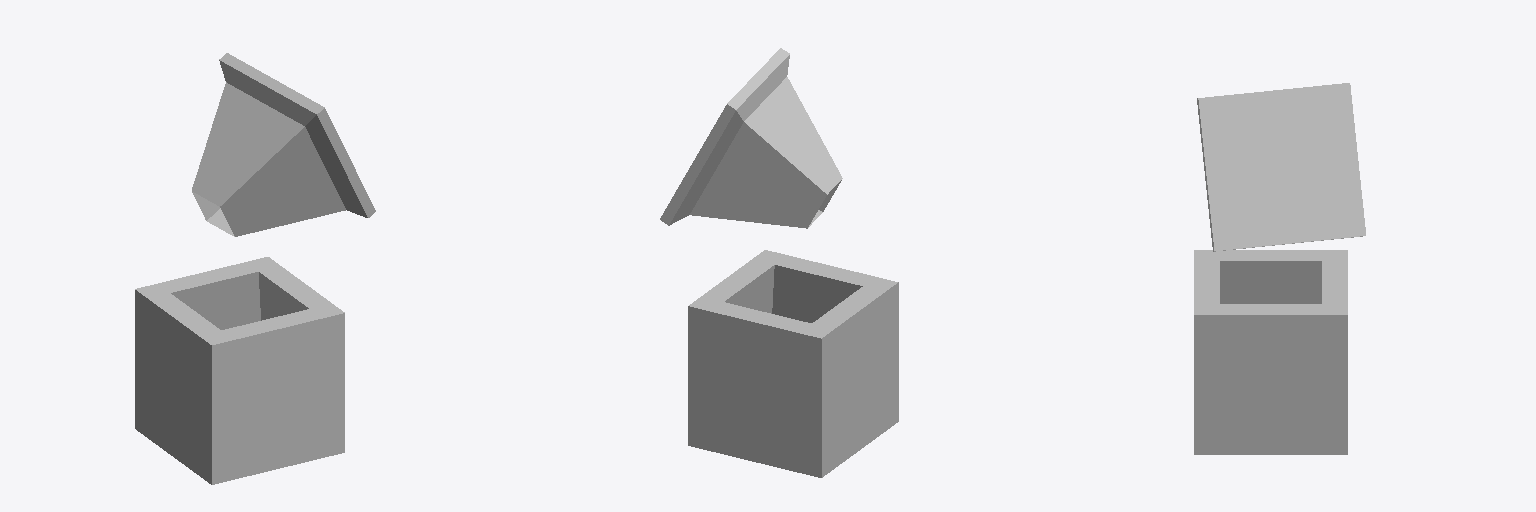
File: AnimatedBox_000063.obj
The picture shows the model from 3 angles: view 1: azimuth 30°, elevation 25°; view 2: azimuth 150°, elevation 25°; view 3: azimuth 270°, elevation 25°; orthographic projection.
Visible parts, largest first — view 1: Cube, Cube.001; view 2: Cube, Cube.001; view 3: Cube, Cube.001.
Part boxes in pixels (left/top/right/bottom): Cube: left=135, top=257, right=344, bottom=484; Cube.001: left=192, top=53, right=375, bottom=236; Cube: left=688, top=250, right=898, bottom=477; Cube.001: left=660, top=48, right=842, bottom=228; Cube: left=1194, top=250, right=1347, bottom=454; Cube.001: left=1197, top=83, right=1365, bottom=251.
Bounding box in the file's own units: 2.62 × 5.05 × 2.24.